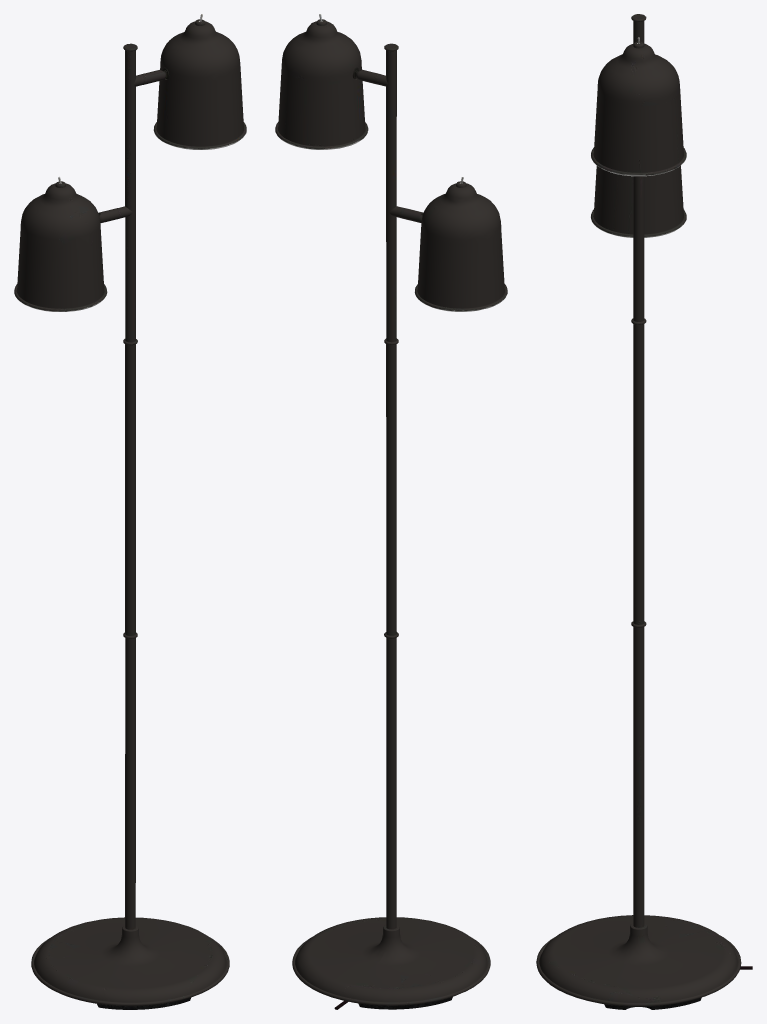
The model's file is kloving_lampa_podogowa_30540016.glb.
3 views of the same model, side by side, from view 1: azimuth 30°, elevation 25°; view 2: azimuth 150°, elevation 25°; view 3: azimuth 270°, elevation 25° (orthographic). The views are drawn at different scales.
Visible parts, largest first — view 1: kloving_lampa_podogowa_30540016; view 2: kloving_lampa_podogowa_30540016; view 3: kloving_lampa_podogowa_30540016.
Boxes of the visible parts, x1=… form: kloving_lampa_podogowa_30540016: x1=14, y1=14, x2=246, y2=1009; kloving_lampa_podogowa_30540016: x1=275, y1=14, x2=507, y2=1009; kloving_lampa_podogowa_30540016: x1=536, y1=14, x2=752, y2=1009.
Bounding box in the file's own units: 0.36 × 1.47 × 0.2971.
Materials: 1 (1 with a texture image).
